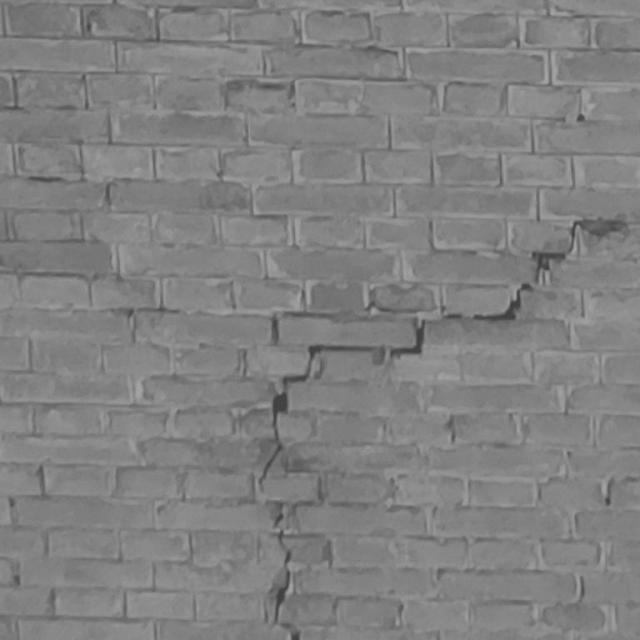crack: (258, 218, 625, 640)
